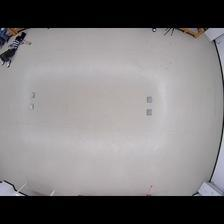fall: (1, 31, 33, 68)
